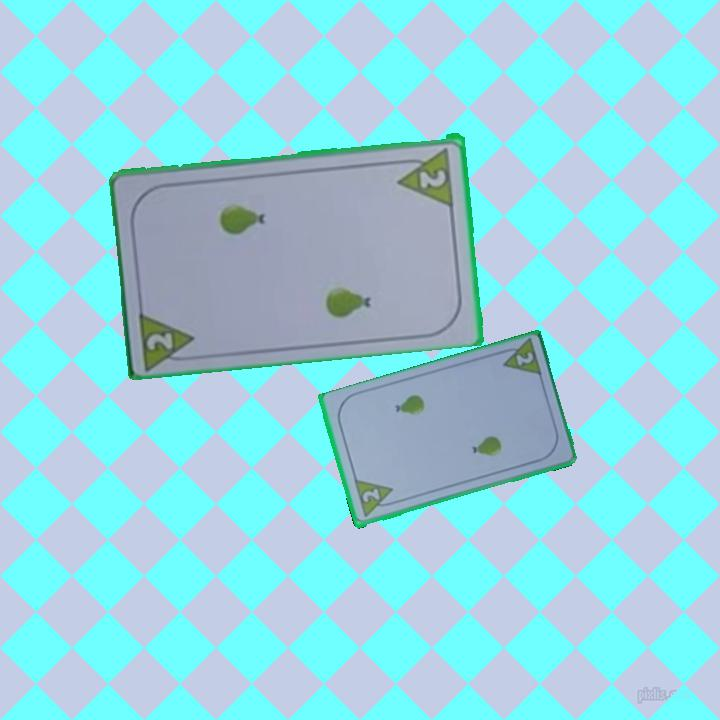2p: (135, 305, 201, 370), (393, 143, 457, 207), (350, 477, 399, 521), (512, 349, 536, 369)
